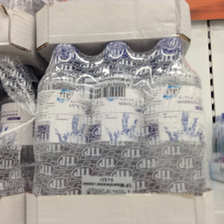water: (146, 38, 208, 194), (90, 40, 150, 193), (34, 44, 91, 195)
